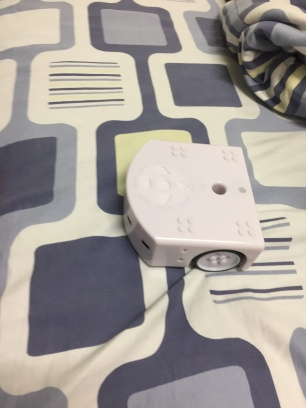thymio: (121, 132, 269, 277)
